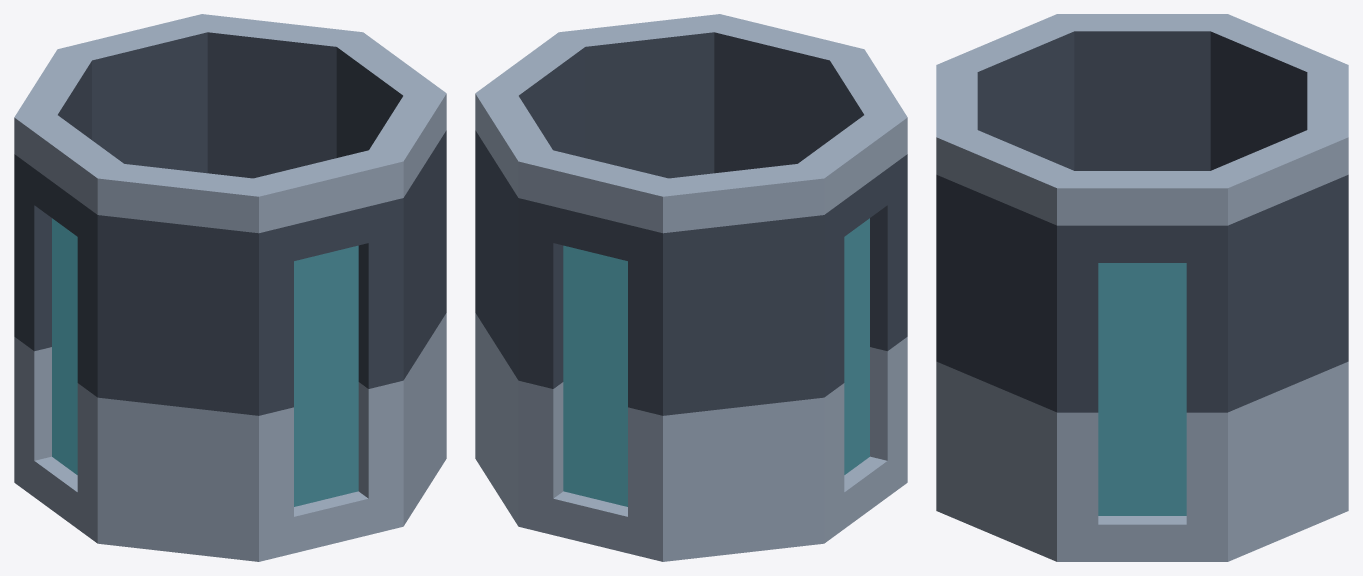
The model's file is rocket_sidesA.glb.
3 views of the same model, side by side, from view 1: azimuth 30°, elevation 25°; view 2: azimuth 150°, elevation 25°; view 3: azimuth 270°, elevation 25° (orthographic). The views are drawn at different scales.
Parts seen in each view (by area): view 1: rocket_sidesA; view 2: rocket_sidesA; view 3: rocket_sidesA.
Part boxes in pixels (bbox=[...]): rocket_sidesA: bbox=[14, 14, 446, 561]; rocket_sidesA: bbox=[475, 14, 907, 561]; rocket_sidesA: bbox=[936, 14, 1348, 561].
Size of the model in its own units: 1 by 1 by 1.
